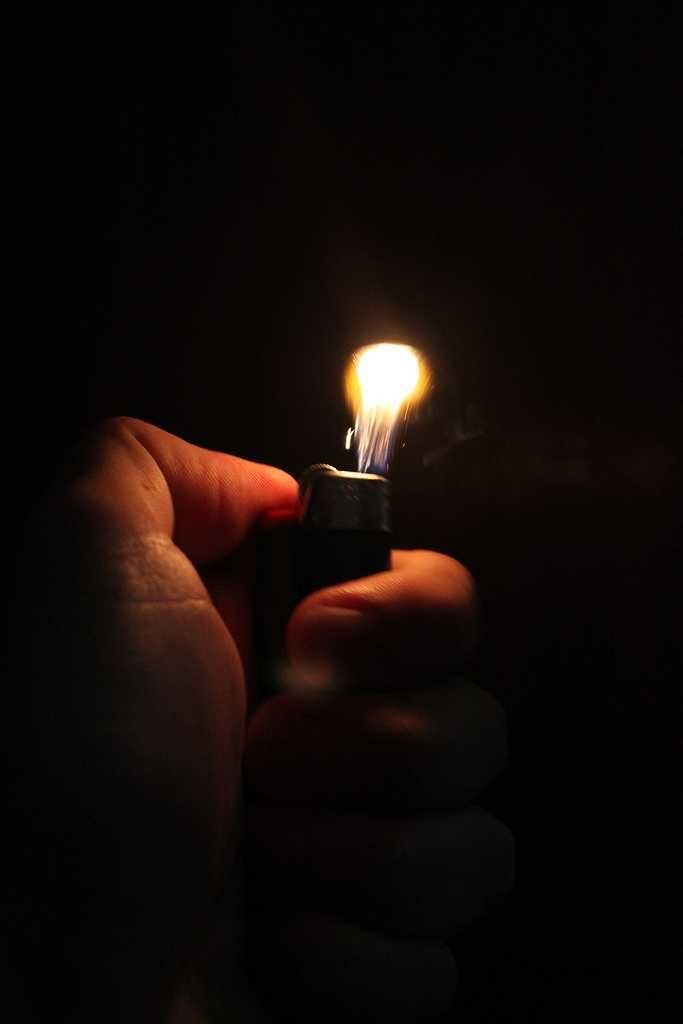fire: (358, 353, 420, 430)
